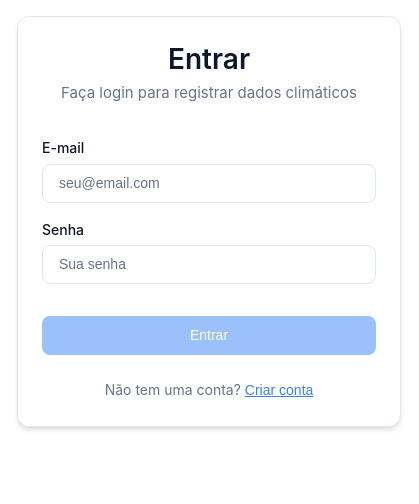
it: LoginView › should show error message on failed login
The image size is (419, 504).
Step 1. Type "aliare@test.com" into the field with id "email" → (209, 183), box [42,164,376,203]
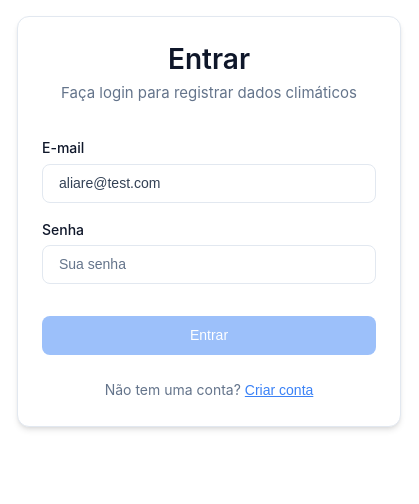
Step 2. Type "wrong-password" into the password field labelled "Senha" → (209, 265), box [42,245,376,284]
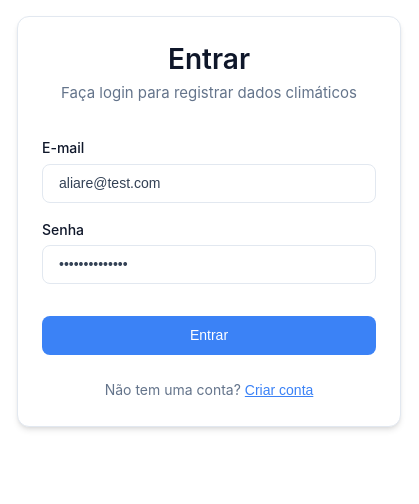
Step 3. Submit the form, box [42,137,376,355]
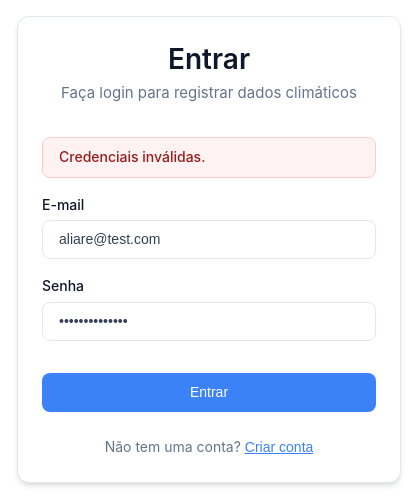
Expected: the text with class "alert--error" reads "Credenciais inválidas.", [59,148,205,165]
